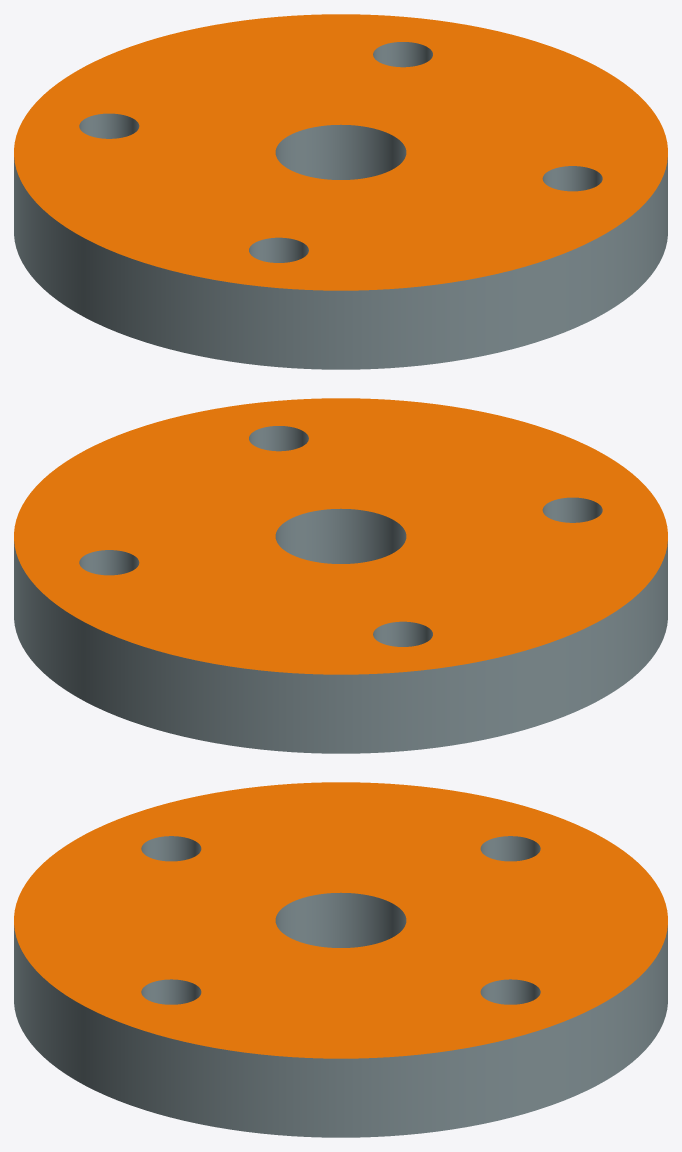
The model's file is demo_flange.glb.
3 renders of one model, top to bottom at view 1: azimuth 30°, elevation 25°; view 2: azimuth 150°, elevation 25°; view 3: azimuth 270°, elevation 25°, orthographic.
Parts seen in each view (by area): view 1: demo_flange; view 2: demo_flange; view 3: demo_flange.
Part boxes in pixels (x1,y1,x2,y2): demo_flange: (14, 14, 667, 369); demo_flange: (14, 398, 667, 753); demo_flange: (14, 782, 667, 1137).
Size of the model in its own units: 60 by 8 by 59.98.
